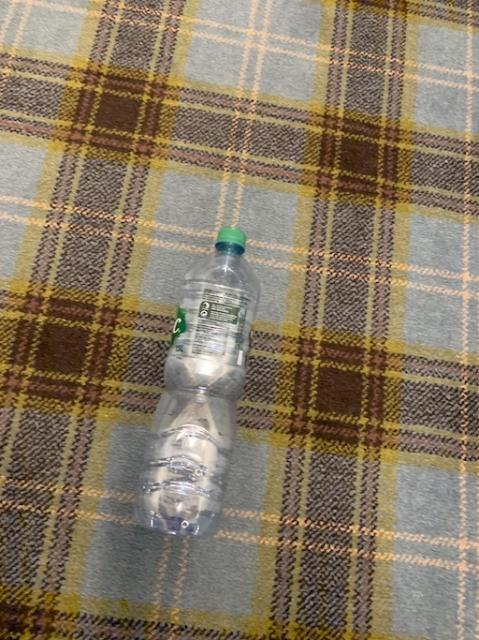plastic: (135, 226, 258, 535)
